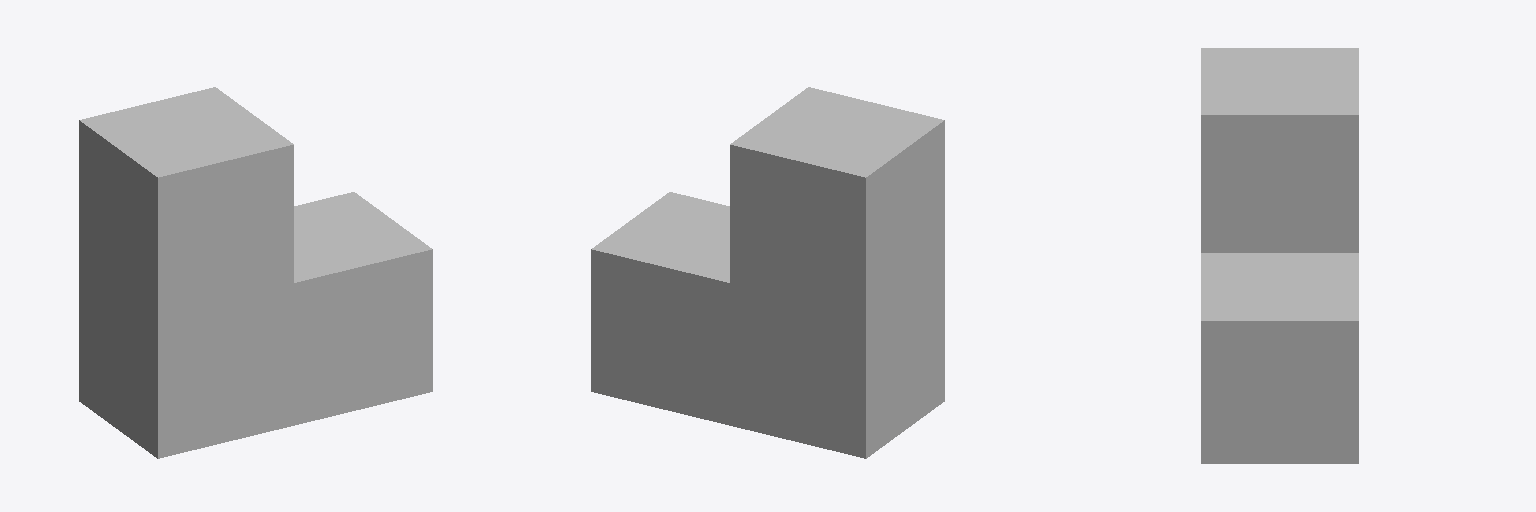
Rendered from stair.obj.
3 views of the same model, side by side, from view 1: azimuth 30°, elevation 25°; view 2: azimuth 150°, elevation 25°; view 3: azimuth 270°, elevation 25° (orthographic).
Parts seen in each view (by area): view 1: Cube; view 2: Cube; view 3: Cube.
Part boxes in pixels (bbox=[...]): Cube: bbox=[79, 87, 432, 458]; Cube: bbox=[591, 87, 944, 458]; Cube: bbox=[1201, 48, 1358, 463].
Bounding box in the file's own units: 4.04 × 3.94 × 2.